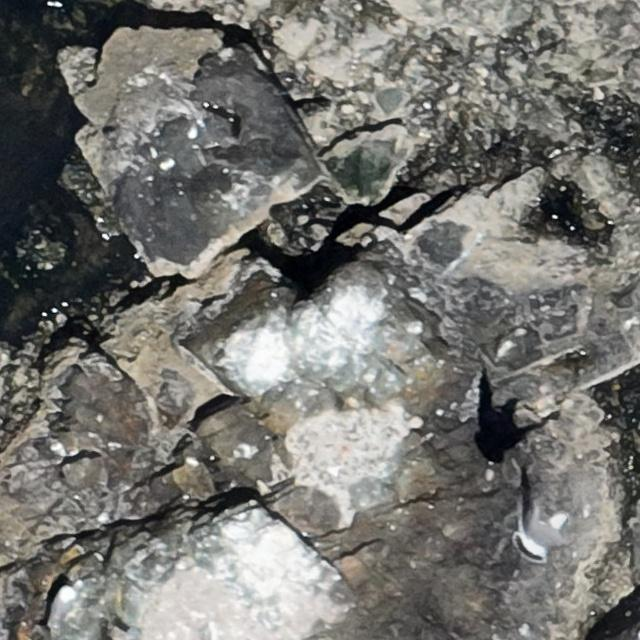F: (520, 485, 570, 561)
umineko: (50, 585, 74, 629), (520, 626, 539, 640)
